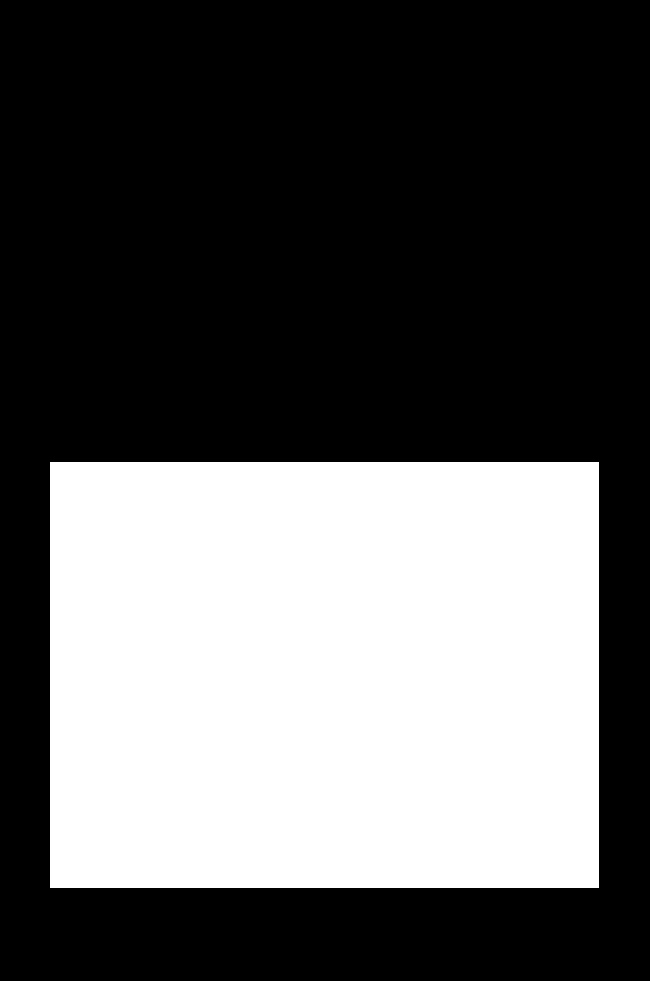table: (50, 462, 598, 887)
